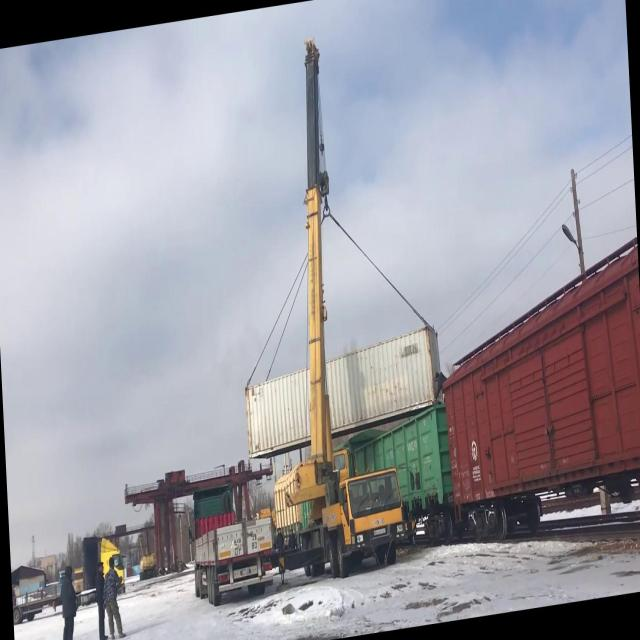crane: (246, 24, 405, 591)
